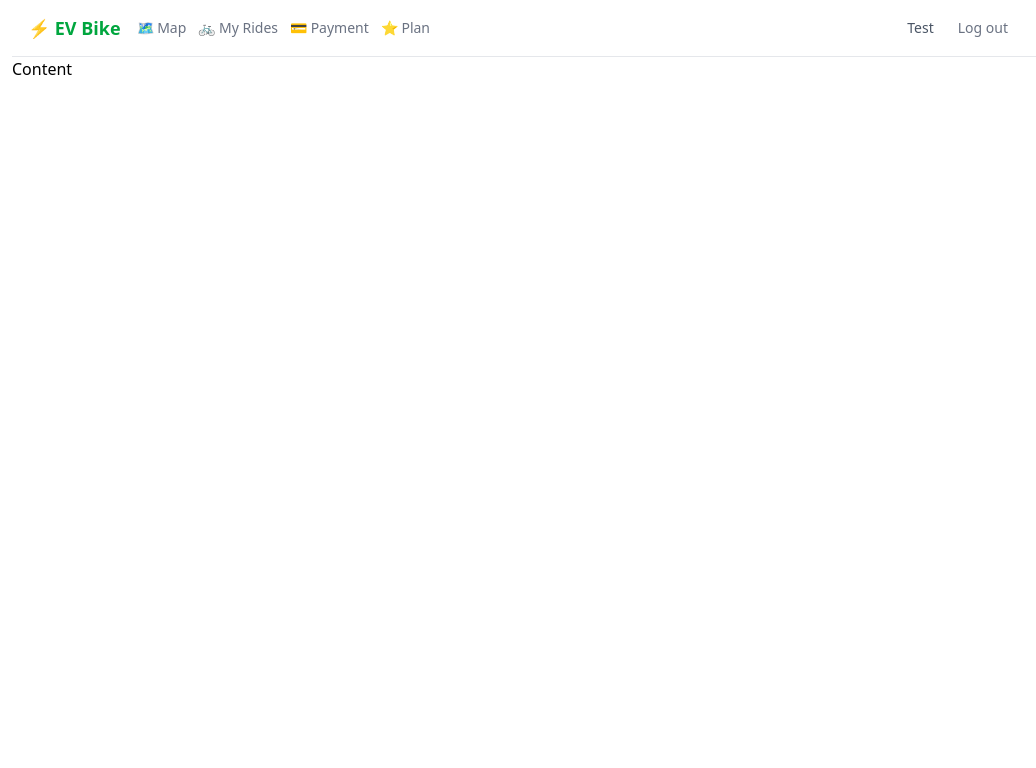
Test: Layout › shows error toast when logout fails
The image size is (1036, 768).
Click the button "Log out" at (983, 28), box left=946, top=12, right=1020, bottom=44
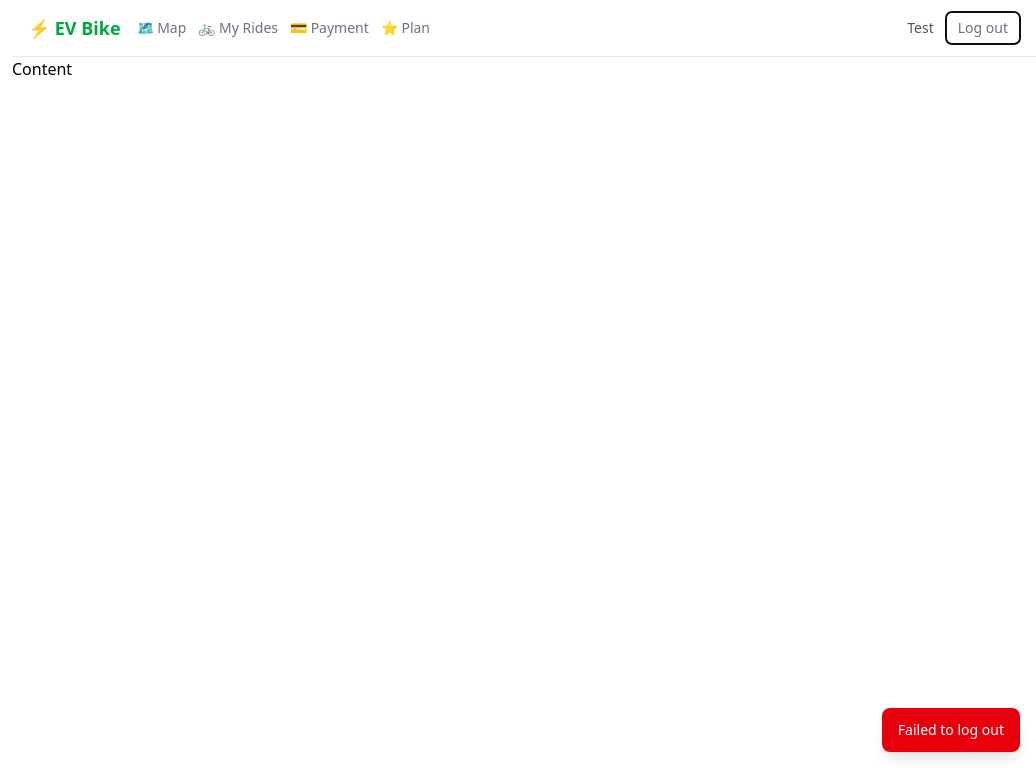
Expected: the button "Failed to log out" is shown, left=882, top=708, right=1020, bottom=752
